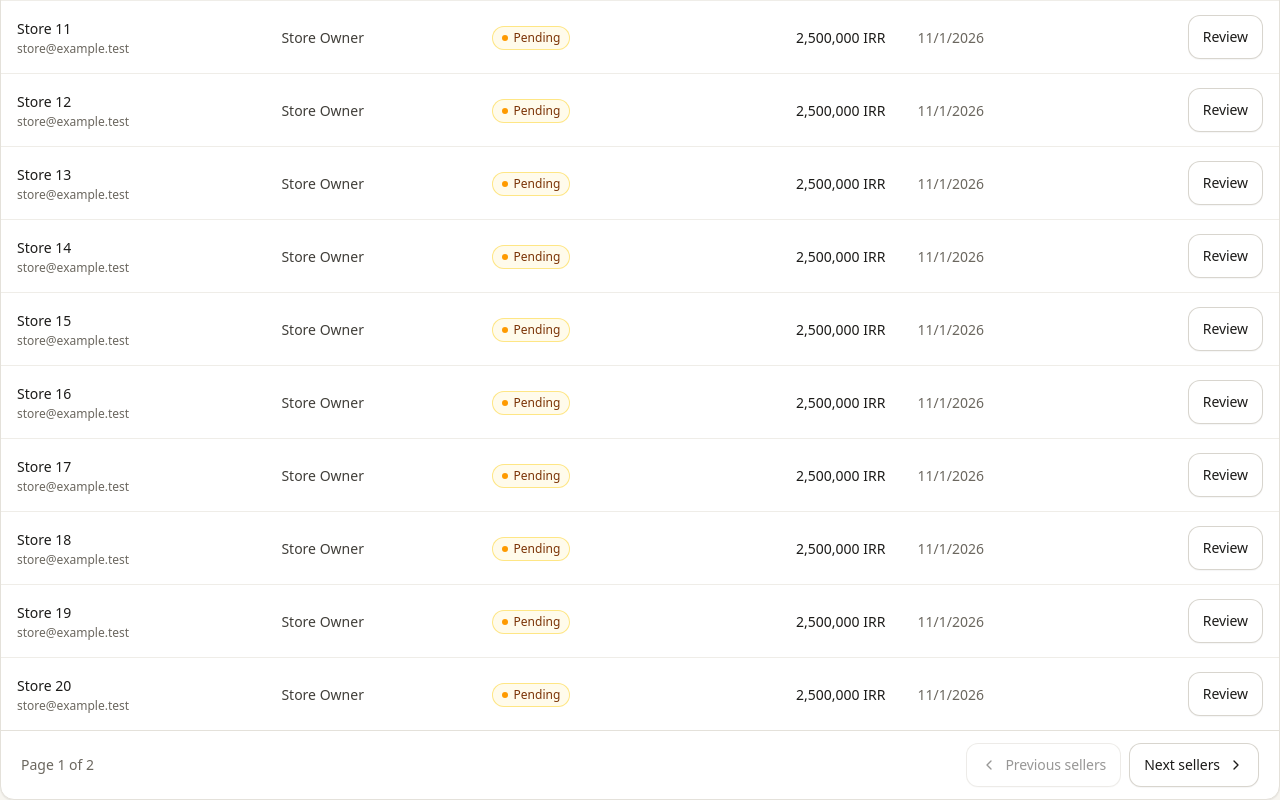
Test: admin seller pages › browses more than 20 sellers and filters the whole server dataset from page one
(page scrolled)
Expected: the link "Store 21" is not shown
Click the button "Next sellers".
click(1194, 765)  # box [1129, 743, 1259, 787]
(page scrolled)
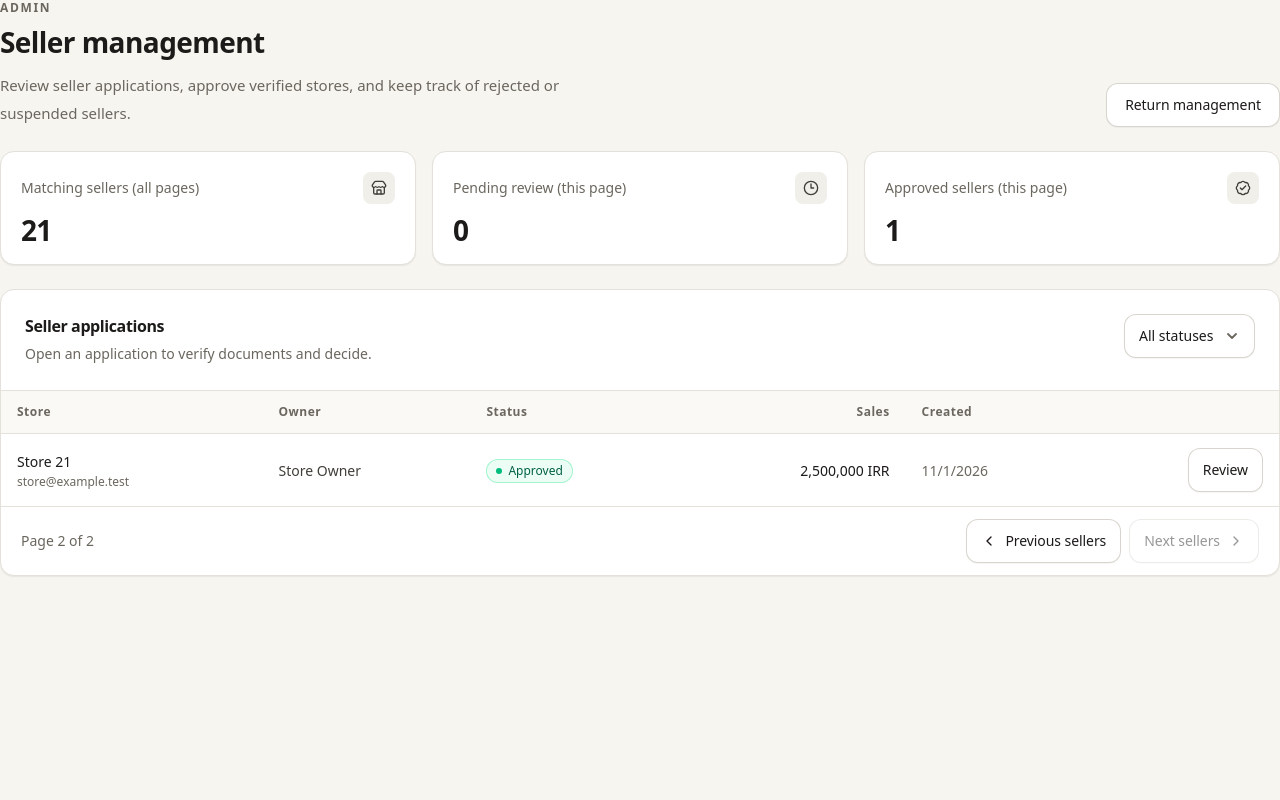
Now the link "Store 21" is shown, box [17, 452, 71, 471]
Now the text "Page 2 of 2" is shown, box [21, 531, 94, 551]
Select "Approved" in the dropdown named "Seller status" at (1190, 336), box [1124, 314, 1255, 358]
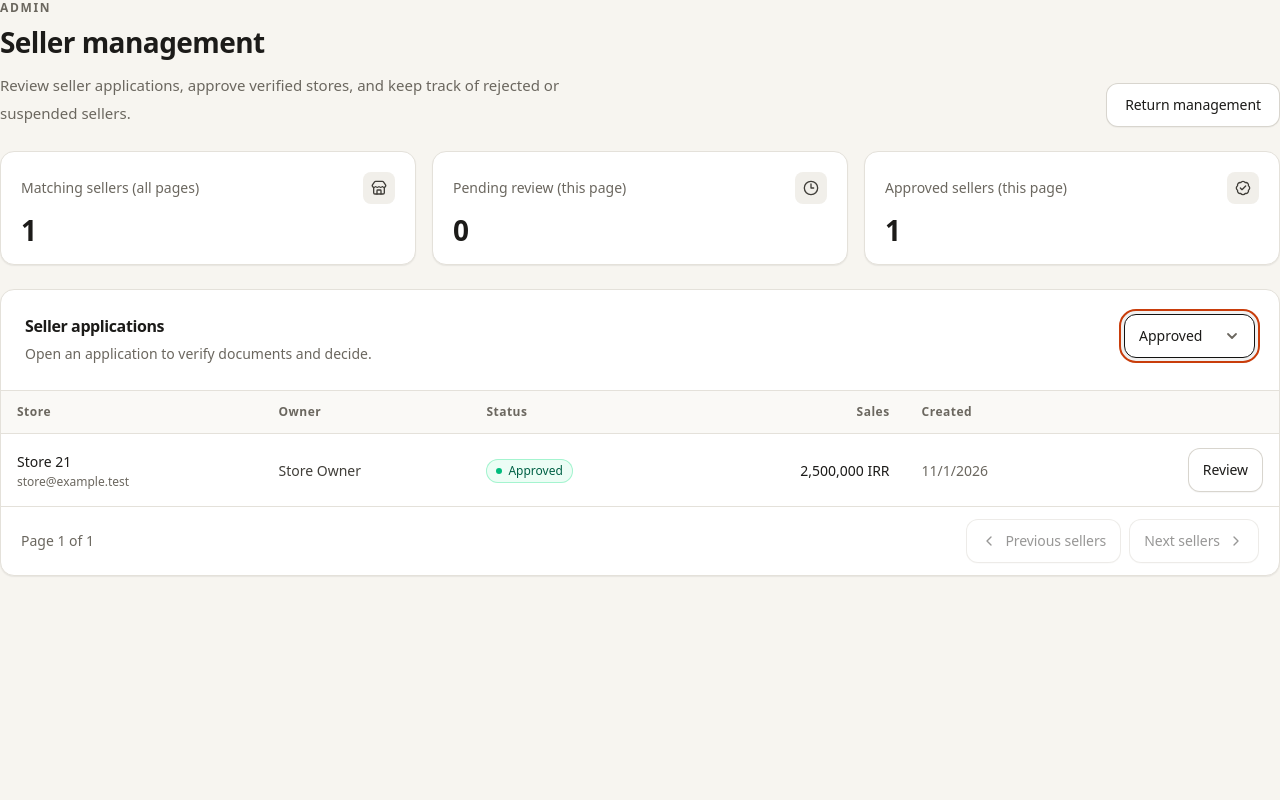
Now the link "Store 21" is shown, box [17, 452, 71, 471]
Now the button "Next sellers" is disabled, box [1129, 519, 1259, 563]
Now the text "Page 1 of 1" is shown, box [21, 531, 94, 551]
